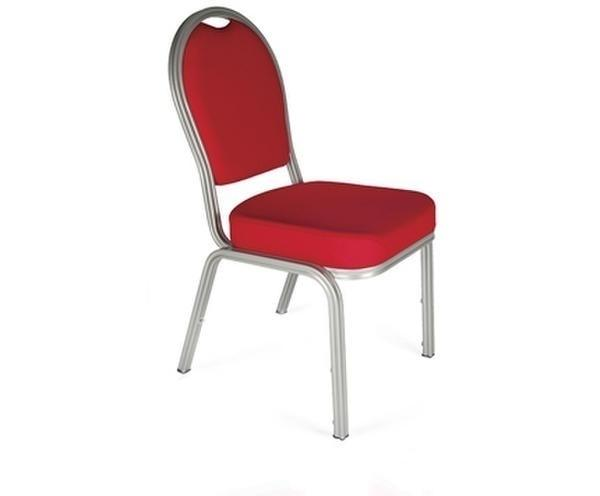chair: (148, 11, 476, 443)
